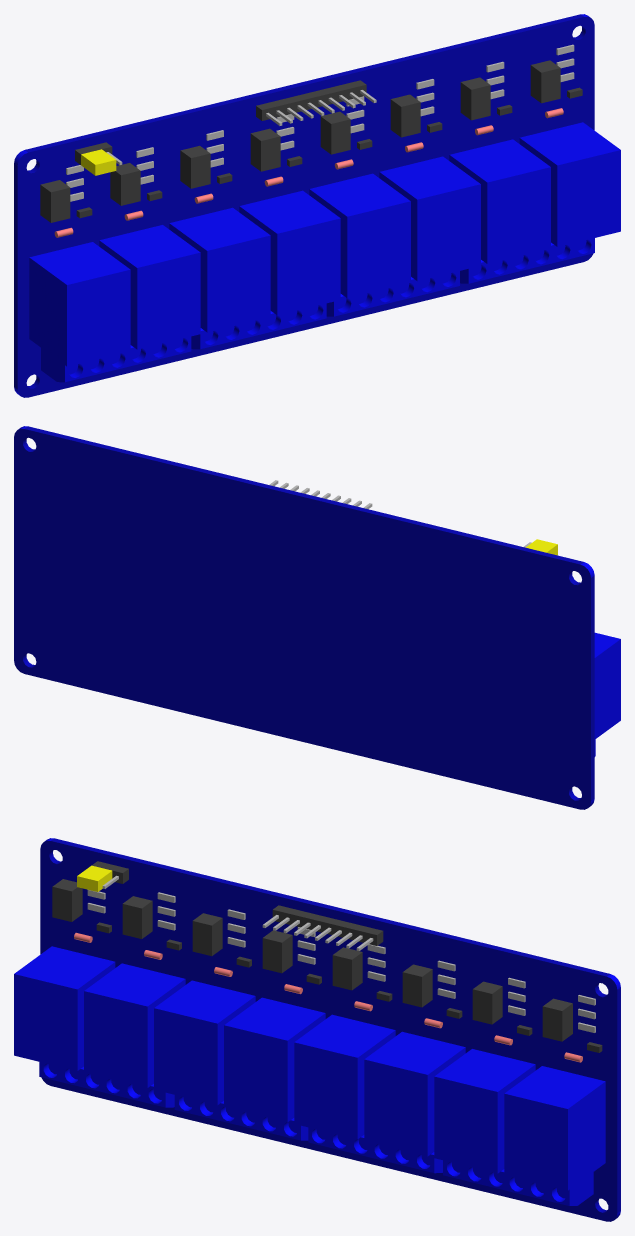
Rendered from SAINSMART 8 CHANNEL DC 5V RELAY MODULE.obj.
3 renders of one model, top to bottom at view 1: azimuth 30°, elevation 25°; view 2: azimuth 150°, elevation 25°; view 3: azimuth 330°, elevation 25°, orthographic.
Visible parts, largest first — view 1: Solid2, Solid1; view 2: Solid2; view 3: Solid2, Solid1.
Part boxes in pixels (<box>): Solid2: <box>14,14,620,397</box>; Solid1: <box>81,149,116,175</box>; Solid2: <box>14,426,620,809</box>; Solid2: <box>14,838,620,1221</box>; Solid1: <box>77,865,112,891</box>.
Bounding box in the file's own units: 138 × 56 × 17.2.
